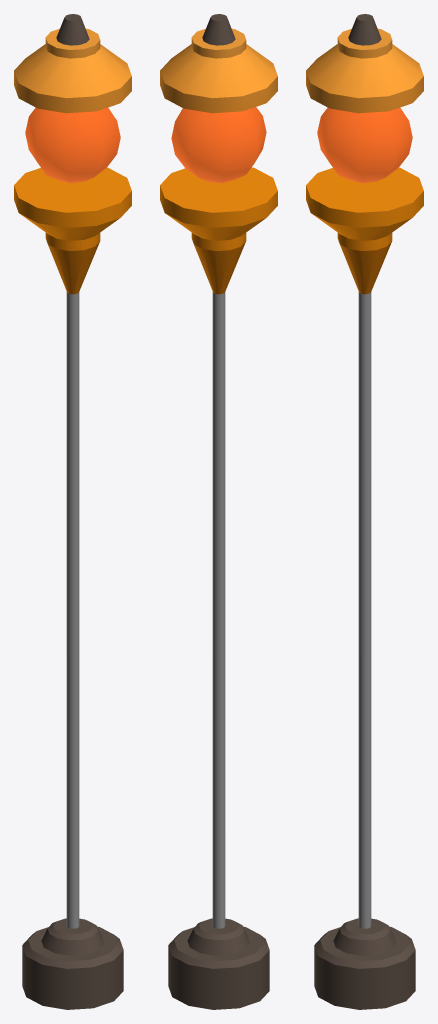
The model's file is lamp_pole.glb.
3 views of the same model, side by side, from view 1: azimuth 90°, elevation 25°; view 2: azimuth 150°, elevation 25°; view 3: azimuth 270°, elevation 25° (orthographic).
Visible parts, largest first — view 1: LampPole; view 2: LampPole; view 3: LampPole.
Boxes of the visible parts, x1,y1,x2,y2 form: LampPole: (14,14,131,1009); LampPole: (160,14,277,1009); LampPole: (306,14,423,1009).
Size of what is drawn, in the model's own units: 0.715 by 6.5 by 0.715.
2 materials, 2 textured.
